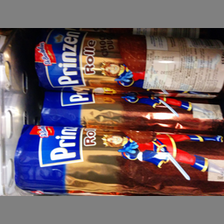chocolate: (14, 123, 224, 194), (34, 30, 224, 95), (30, 90, 224, 129)
